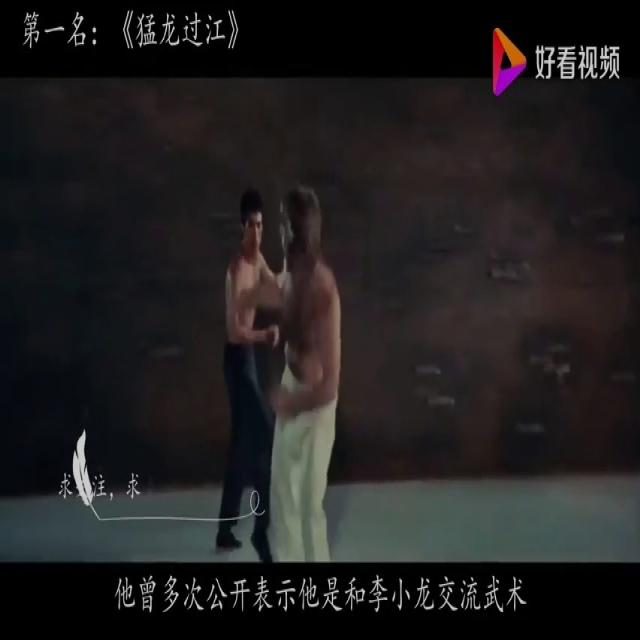fight: (210, 176, 354, 561)
